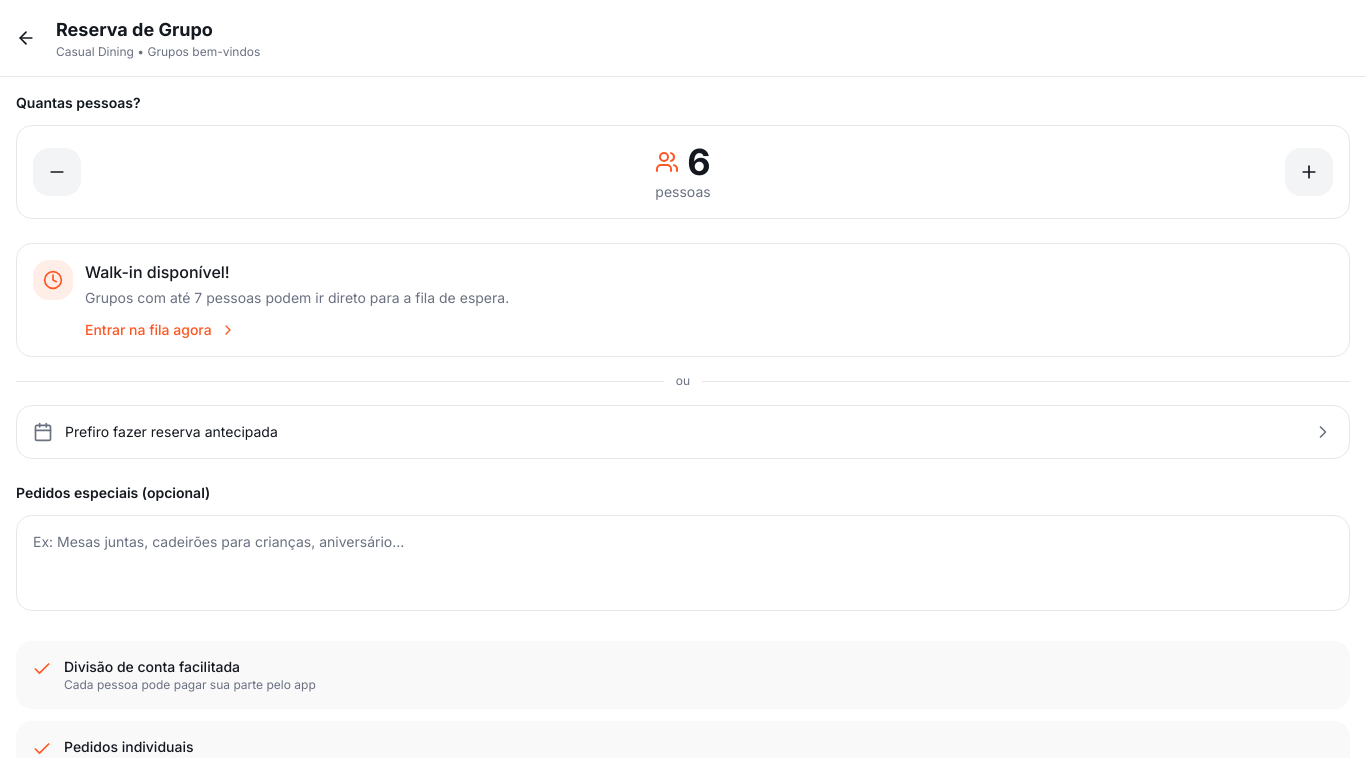
Scenario: GroupBookingScreenV2 › should increase party size when clicking plus button
Step 1. Click the 3rd button → point(1309, 172), box 1285,148 -> 1333,196
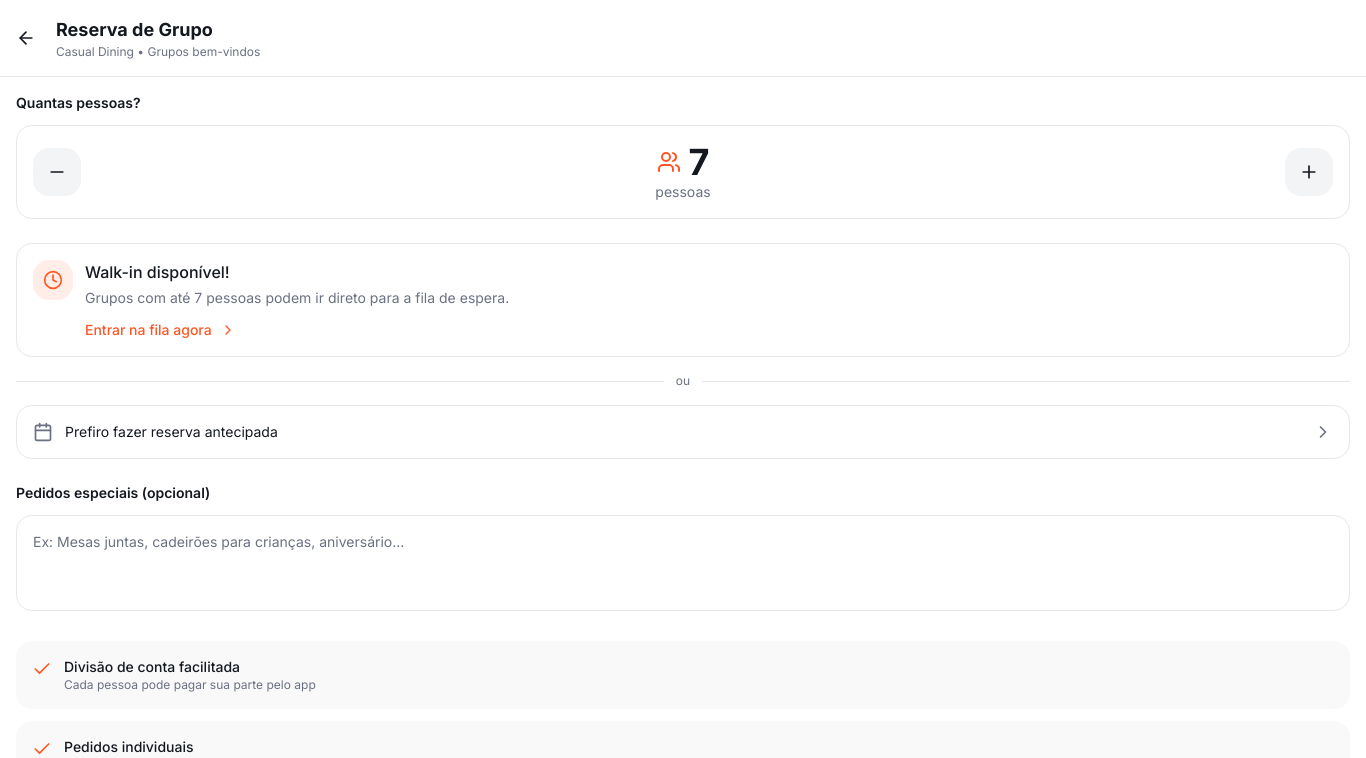
Check: the text "7" is shown, box 688,142 -> 709,182
